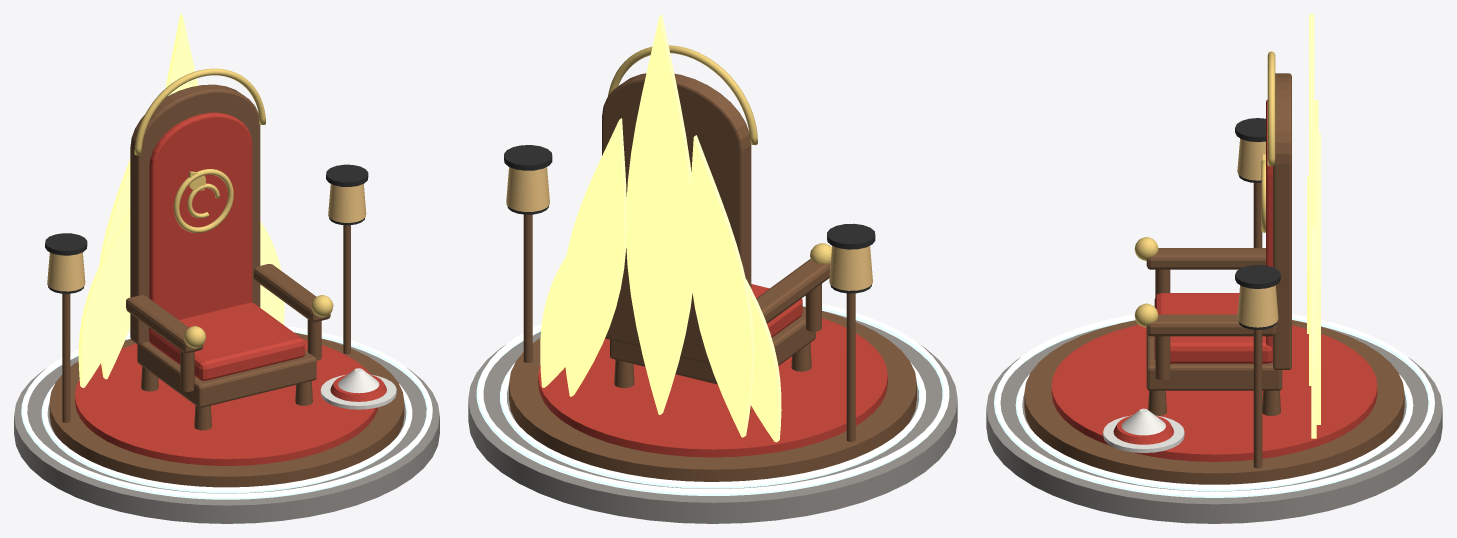
Rendered from HokageThrone.fbx.
The picture shows the model from 3 angles, left to right: view 1: azimuth 30°, elevation 25°; view 2: azimuth 150°, elevation 25°; view 3: azimuth 270°, elevation 25°; orthographic projection. The views are drawn at different scales.
Parts seen in each view (by area): view 1: Platform_Top, Back_Cushion, Platform_Base, Platform_Mid, Back, Seat, Flame_1, Seat_Frame, ChakraRing_2, ChakraRing_1, Flame_4, Armrest_L (+16 smaller); view 2: Platform_Top, Platform_Base, Flame_2, Platform_Mid, Back, Flame_4, Flame_5, ChakraRing_2, ChakraRing_1, Flame_1, Seat_Frame, Flame_3 (+10 smaller); view 3: Platform_Top, Platform_Base, Platform_Mid, ChakraRing_2, Back, Seat, Seat_Frame, ChakraRing_1, Armrest_L, Armrest_R, Flame_2, Flame_5 (+13 smaller).
Part boxes in pixels (box(x1,y1,x2,y2)): Platform_Top: box(75, 339, 377, 465); Back_Cushion: box(149, 112, 252, 319); Platform_Base: box(14, 338, 439, 523); Platform_Mid: box(49, 332, 404, 487); Back: box(130, 84, 260, 344); Seat: box(149, 302, 304, 380); Flame_1: box(78, 209, 130, 387); Seat_Frame: box(137, 341, 316, 407); ChakraRing_2: box(21, 326, 432, 499); ChakraRing_1: box(41, 384, 412, 493); Flame_4: box(99, 159, 130, 379); Armrest_L: box(126, 295, 203, 353); Platform_Top: box(538, 318, 887, 457); Platform_Base: box(468, 311, 957, 523); Flame_2: box(626, 14, 692, 414); Platform_Mid: box(509, 306, 916, 481); Back: box(602, 73, 751, 363); Flame_4: box(688, 135, 754, 437); Flame_5: box(561, 118, 626, 396); ChakraRing_2: box(476, 299, 949, 495); ChakraRing_1: box(500, 362, 925, 488); Flame_1: box(745, 278, 781, 442); Seat_Frame: box(610, 310, 815, 384); Flame_3: box(540, 256, 566, 387); Platform_Top: box(1051, 325, 1377, 461); Platform_Base: box(986, 325, 1442, 523); Platform_Mid: box(1024, 320, 1404, 484); ChakraRing_2: box(994, 314, 1434, 497); Back: box(1273, 73, 1291, 369); Seat: box(1154, 293, 1272, 363); Seat_Frame: box(1146, 333, 1282, 390); ChakraRing_1: box(1015, 374, 1413, 491); Armrest_L: box(1146, 248, 1265, 269); Armrest_R: box(1146, 314, 1276, 336); Flame_2: box(1309, 14, 1314, 385); Flame_5: box(1315, 133, 1320, 424).
Bounding box in the file's own units: 8.4 × 8.4 × 8.4.
